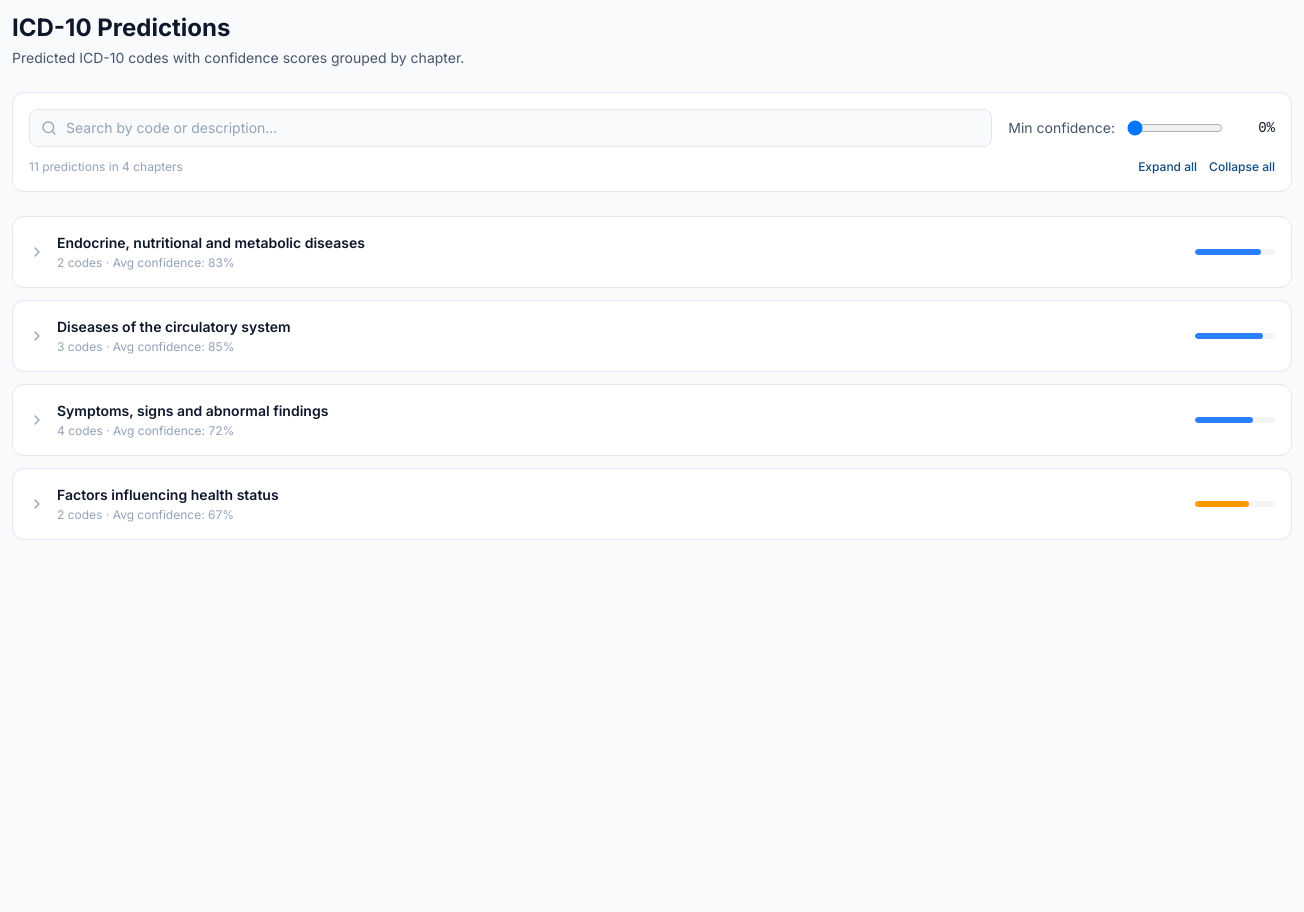
ICDResults › expands chapter on click to reveal codes
This screenshot has width=1304, height=912.
Click the button "Endocrine, nutritional and metabolic diseases": (211, 242) [13,217,1291,287]
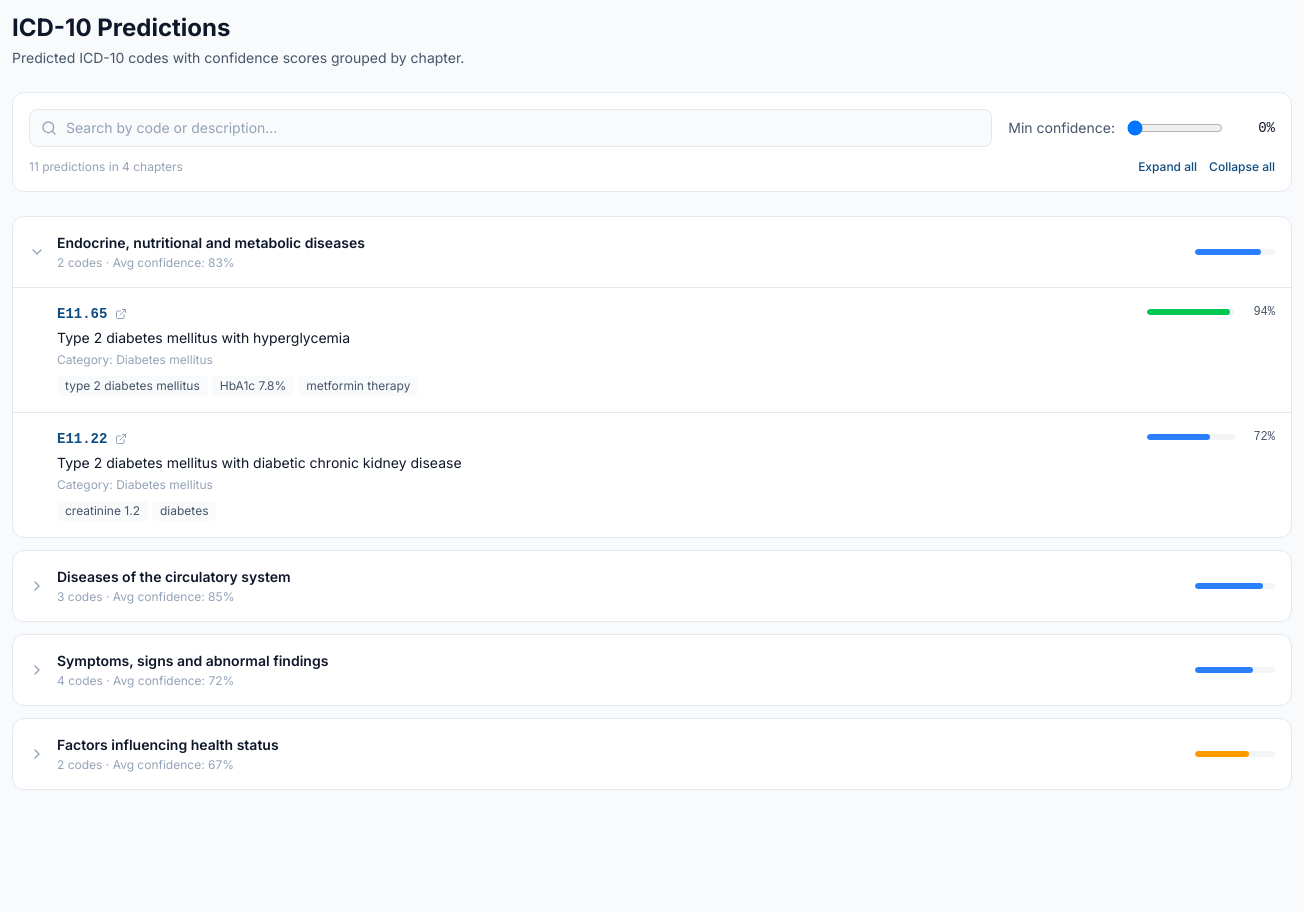
Expected: the text "E11.65" is shown, [57,304,107,324]
Expected: the text "Type 2 diabetes mellitus with hyperglycemia" is shown, [57,329,350,346]
